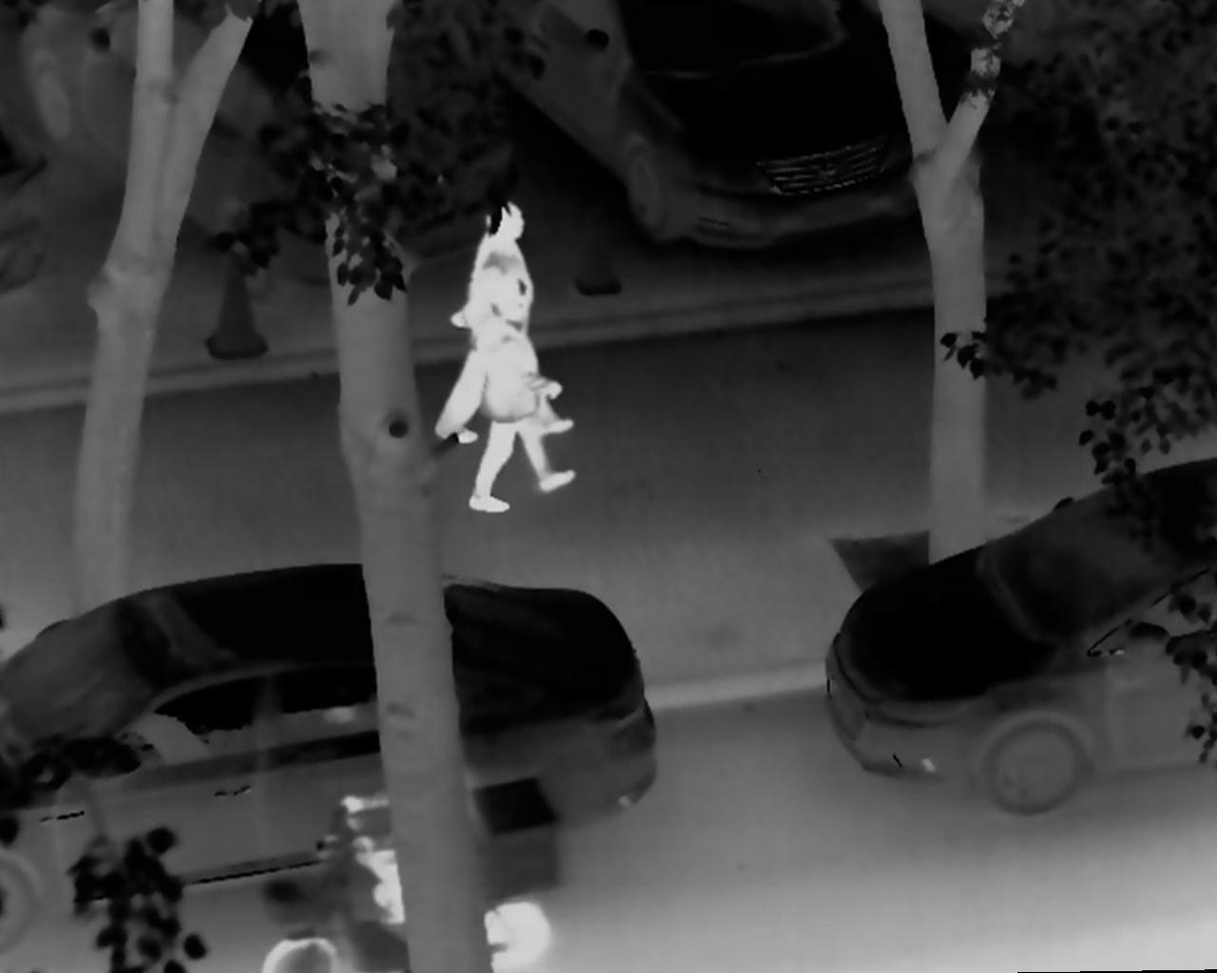person: (421, 195, 571, 444), (467, 284, 576, 516), (338, 746, 422, 935)
